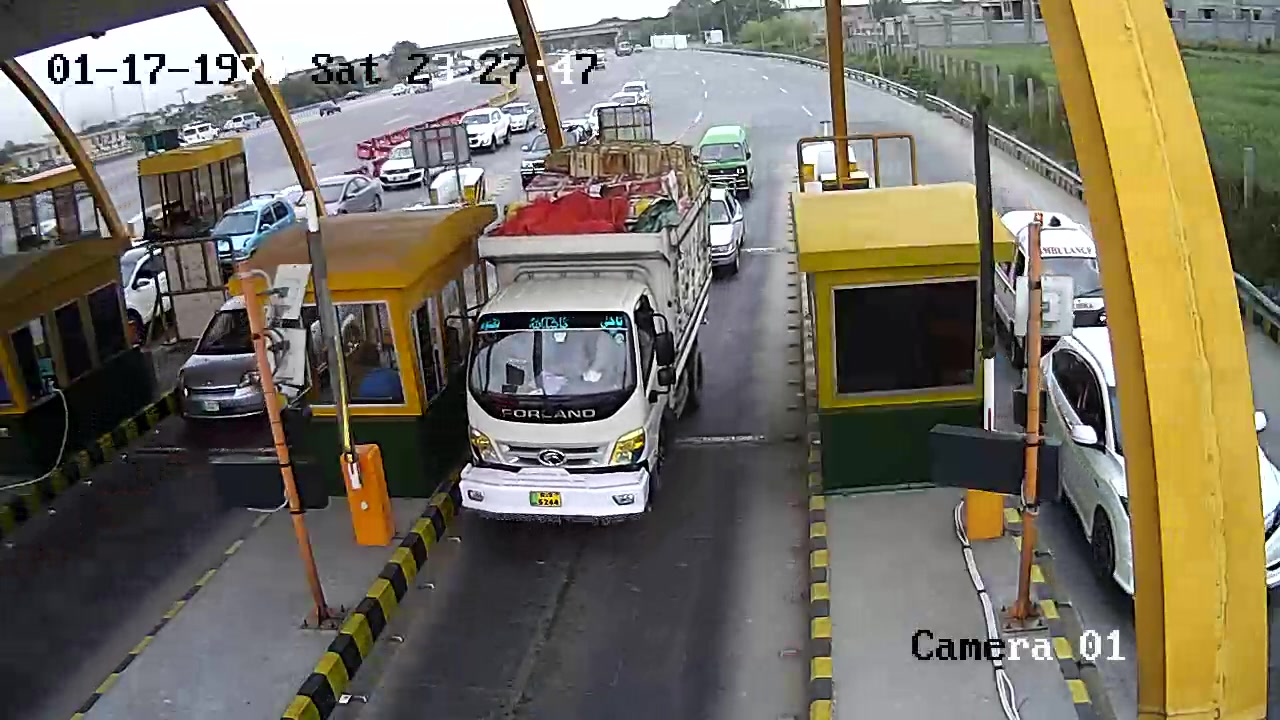F5: (454, 105, 724, 529)
